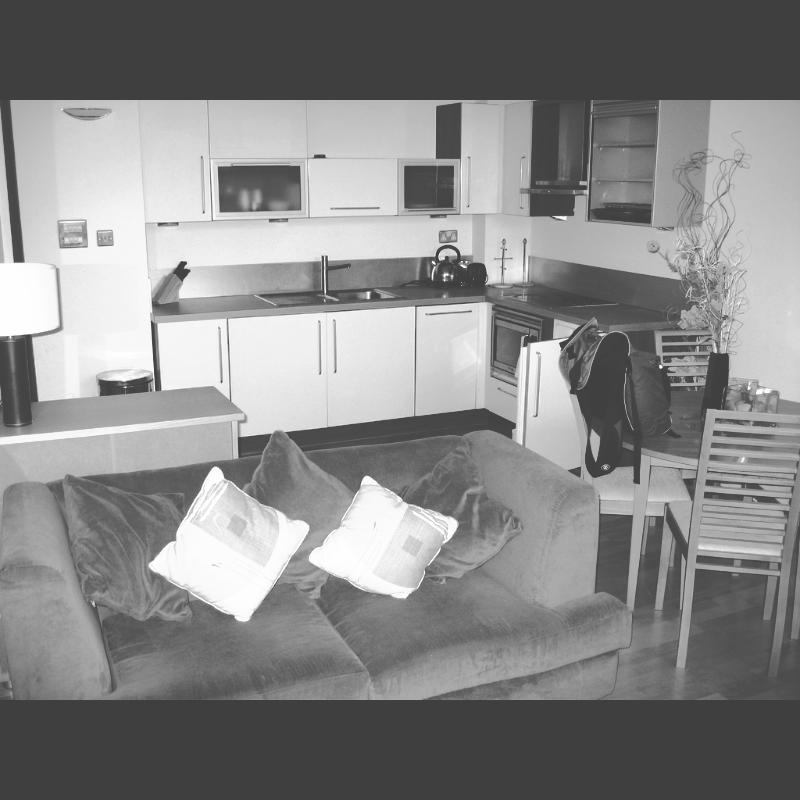pillow: (149, 465, 309, 621), (246, 434, 368, 600), (395, 443, 527, 585), (67, 474, 191, 624), (322, 478, 457, 602)
